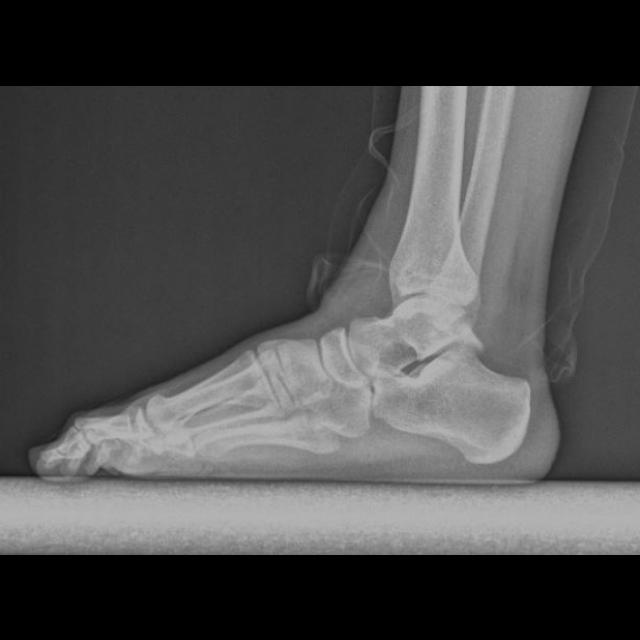a: (373, 345, 533, 463)
b: (319, 326, 370, 389)
c: (147, 348, 277, 428)
